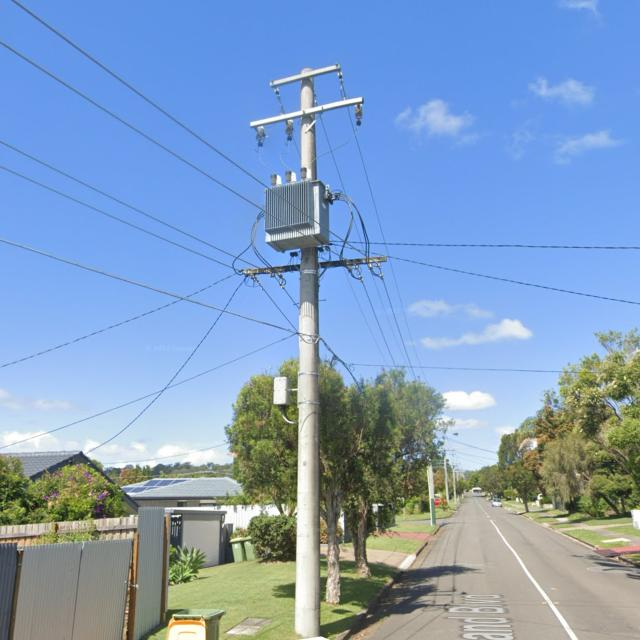HV-transmission: (250, 62, 366, 150)
LV link: (346, 262, 364, 282), (268, 270, 287, 287), (367, 261, 383, 280)
concrete-pole: (292, 67, 321, 638)
crossarm: (249, 95, 366, 129), (237, 254, 386, 277), (271, 64, 341, 86)
timber-pole: (427, 457, 436, 525), (442, 438, 450, 506), (452, 454, 457, 506)
transformer: (262, 166, 330, 256)
